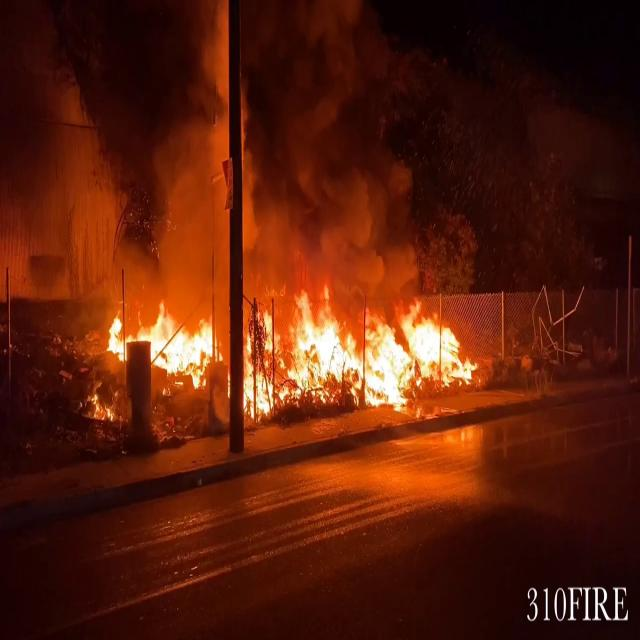Fire: (93, 275, 478, 417), (84, 387, 116, 425)
Smoke: (0, 0, 418, 283)
